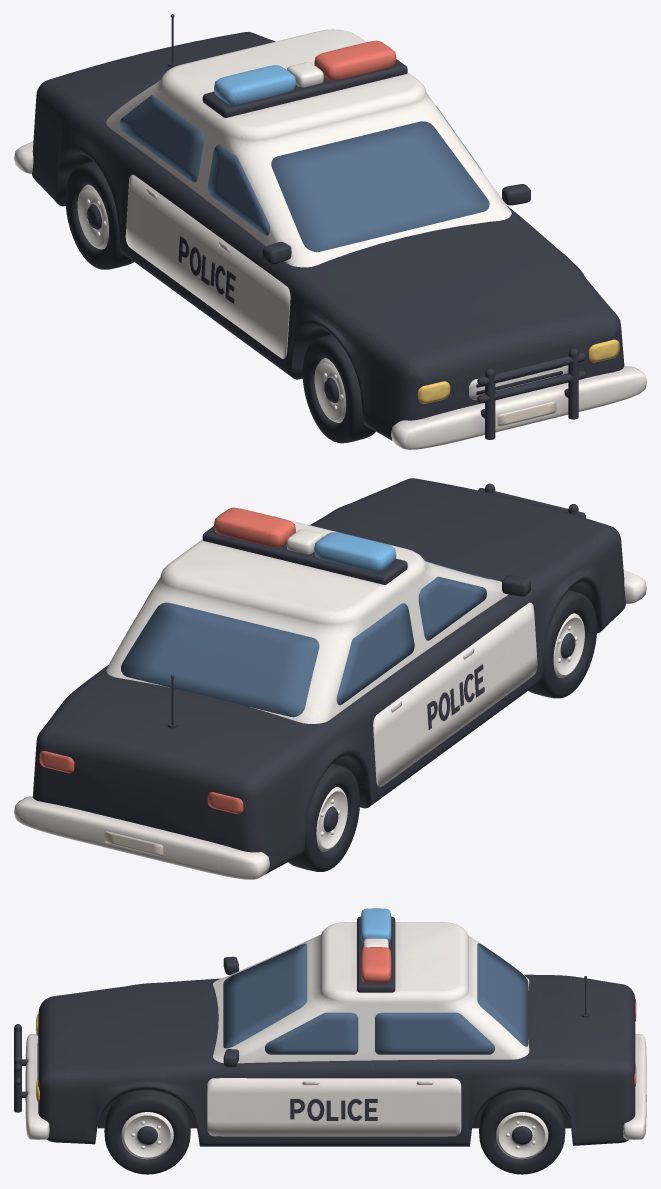
File: police-car.glb
The picture shows the model from 3 angles, top to bottom: view 1: azimuth 30°, elevation 25°; view 2: azimuth 150°, elevation 25°; view 3: azimuth 270°, elevation 25°; orthographic projection. The views are drawn at different scales.
Parts seen in each view (by area): view 1: police-car_body, police-car_windows, police-car_wheel_fr, police-car_wheel_rr; view 2: police-car_body, police-car_windows, police-car_wheel_rr, police-car_wheel_fr; view 3: police-car_body, police-car_windows, police-car_wheel_fl, police-car_wheel_rl.
Part boxes in pixels (left/top/right/bottom): police-car_body: left=14, top=14, right=646, bottom=449; police-car_windows: left=119, top=80, right=489, bottom=252; police-car_wheel_fr: left=302, top=334, right=375, bottom=443; police-car_wheel_rr: left=65, top=161, right=133, bottom=269; police-car_body: left=14, top=478, right=646, bottom=879; police-car_windows: left=121, top=560, right=489, bottom=717; police-car_wheel_rr: left=288, top=763, right=359, bottom=871; police-car_wheel_fr: left=528, top=590, right=596, bottom=698; police-car_body: left=14, top=908, right=646, bottom=1146; police-car_windows: left=223, top=943, right=528, bottom=1054; police-car_wheel_fl: left=104, top=1090, right=190, bottom=1174; police-car_wheel_rl: left=479, top=1090, right=565, bottom=1174.
Size of the model in its own units: 1.9 by 1.66 by 4.98.
Materials: 14 (1 with a texture image).
